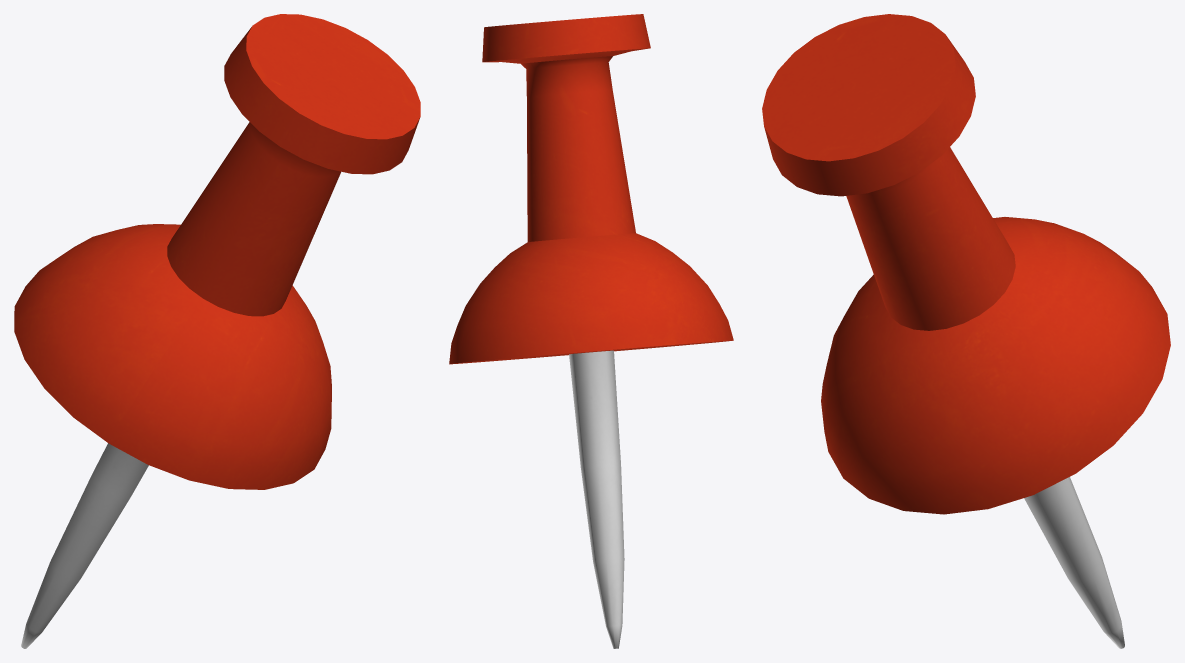
The model's file is pin.gltf.
3 renders of one model, left to right at view 1: azimuth 30°, elevation 25°; view 2: azimuth 150°, elevation 25°; view 3: azimuth 270°, elevation 25°, orthographic. The views are drawn at different scales.
Visible parts, largest first — view 1: Pin2; view 2: Pin2; view 3: Pin2.
Boxes of the visible parts, x1,y1,x2,y2 form: Pin2: [14, 14, 420, 648]; Pin2: [449, 14, 733, 648]; Pin2: [762, 14, 1170, 648].
Bounding box in the file's own units: 0.0108 × 0.0211 × 0.0112.
1 material, 1 textured.
